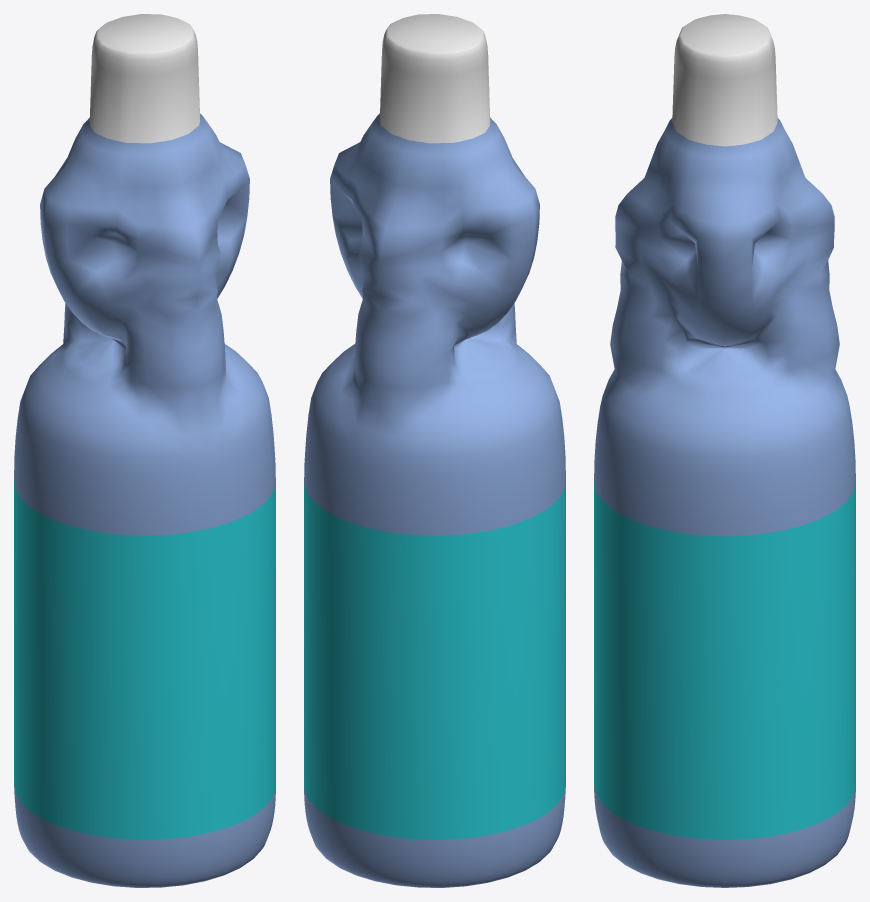
The model's file is item_ramune_bottle.fbx.
3 renders of one model, left to right at view 1: azimuth 30°, elevation 25°; view 2: azimuth 150°, elevation 25°; view 3: azimuth 270°, elevation 25°, orthographic.
Visible parts, largest first — view 1: Cylinder.001; view 2: Cylinder.001; view 3: Cylinder.001.
Boxes of the visible parts, <box> form: Cylinder.001: <box>14,14,275,887</box>; Cylinder.001: <box>304,14,565,887</box>; Cylinder.001: <box>594,14,855,887</box>.
Size of the model in its own units: 9.97 by 33.76 by 9.97.
